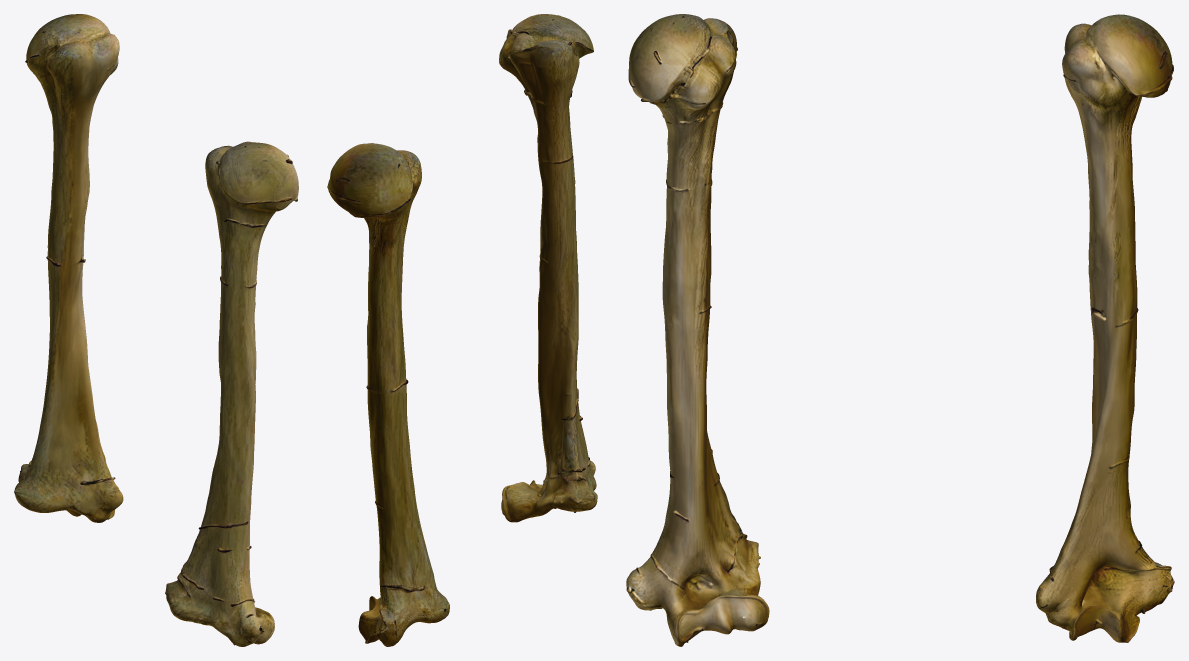
File: humerus.glb
The picture shows the model from 3 angles, left to right: view 1: azimuth 30°, elevation 25°; view 2: azimuth 150°, elevation 25°; view 3: azimuth 270°, elevation 25°; orthographic projection. The views are drawn at different scales.
Parts seen in each view (by area): view 1: tripo_node_727044e9-aee2-4175-9c4e-3b1ec4467afb; view 2: tripo_node_727044e9-aee2-4175-9c4e-3b1ec4467afb; view 3: tripo_node_727044e9-aee2-4175-9c4e-3b1ec4467afb.
Part boxes in pixels (<box>): tripo_node_727044e9-aee2-4175-9c4e-3b1ec4467afb: <box>14,14,298,646</box>; tripo_node_727044e9-aee2-4175-9c4e-3b1ec4467afb: <box>327,14,597,646</box>; tripo_node_727044e9-aee2-4175-9c4e-3b1ec4467afb: <box>626,14,1174,646</box>.
Bounding box in the file's own units: 0.2259 × 1 × 0.8003.
Materials: 1 (1 with a texture image).
